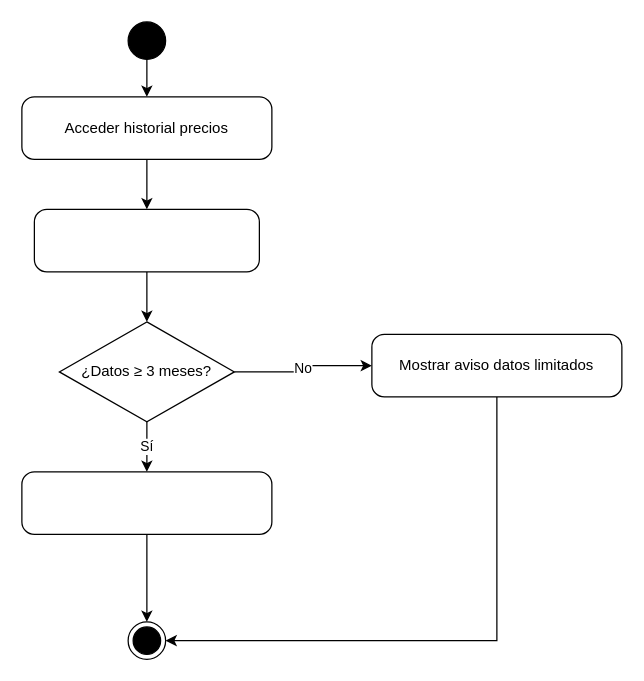
Some shapes in this 644 by 681 pixel diagram are drawn without their labels. The shapes that lost their labels are listed below. From the top down, each one's centre as x and y in pixels, then its label:
At (146,240): "Seleccionar cultivo".
At (146,502): "Mostrar gráfica tendencia".
